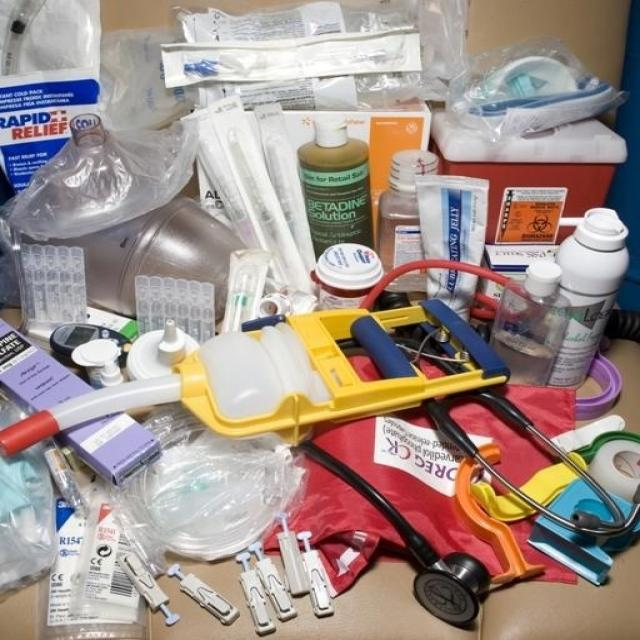Medical Waste: (0, 10, 640, 625)
